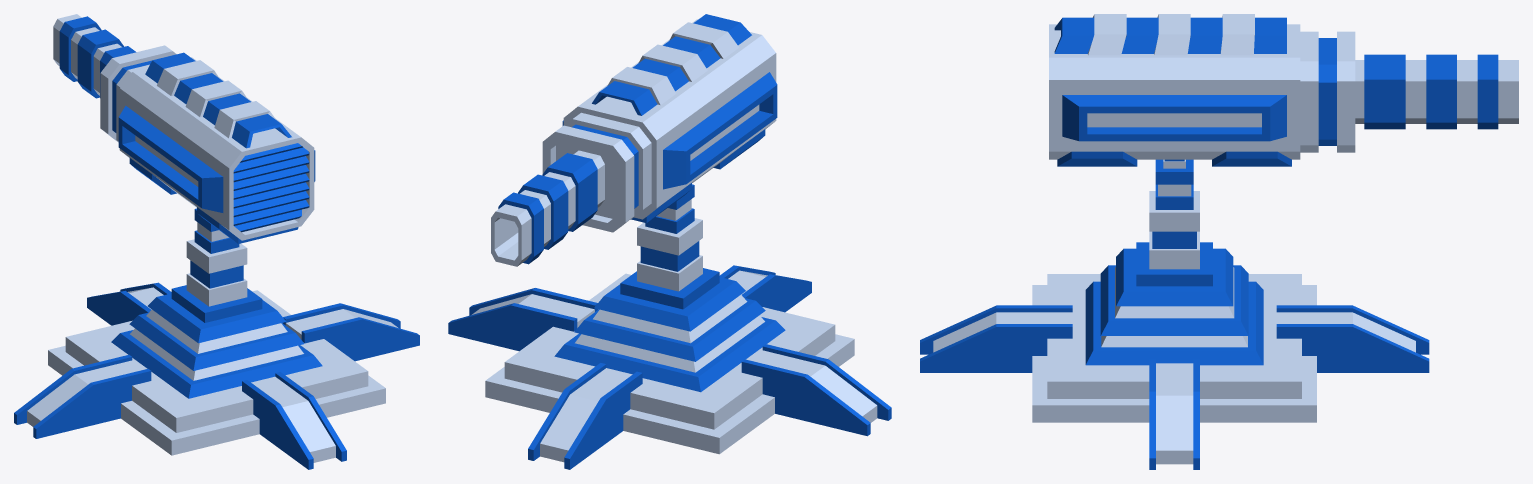
The model's file is Turret_Laser_2_A.fbx.
3 views of the same model, side by side, from view 1: azimuth 30°, elevation 25°; view 2: azimuth 150°, elevation 25°; view 3: azimuth 270°, elevation 25° (orthographic). The views are drawn at different scales.
Parts seen in each view (by area): view 1: LaserTurretBaseA, LaserTurretHeadA; view 2: LaserTurretBaseA, LaserTurretHeadA; view 3: LaserTurretBaseA, LaserTurretHeadA.
Boxes of the visible parts, x1,y1,x2,y2 form: LaserTurretBaseA: (14, 208, 419, 469); LaserTurretHeadA: (53, 14, 315, 243); LaserTurretBaseA: (448, 184, 891, 469); LaserTurretHeadA: (491, 14, 777, 266); LaserTurretBaseA: (920, 159, 1429, 469); LaserTurretHeadA: (1049, 14, 1518, 166).
Bounding box in the file's own units: 40 × 29.31 × 47.04.
1 material, 1 textured.
